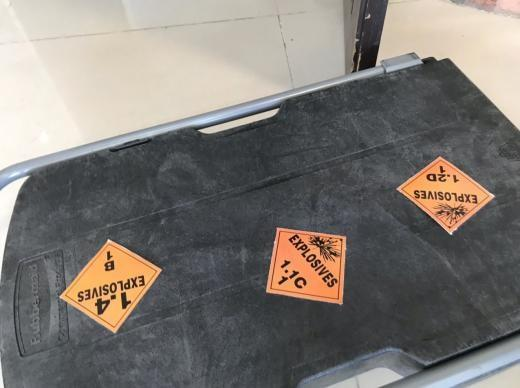radioactive: (61, 239, 163, 332), (398, 156, 496, 236), (267, 225, 348, 307)
